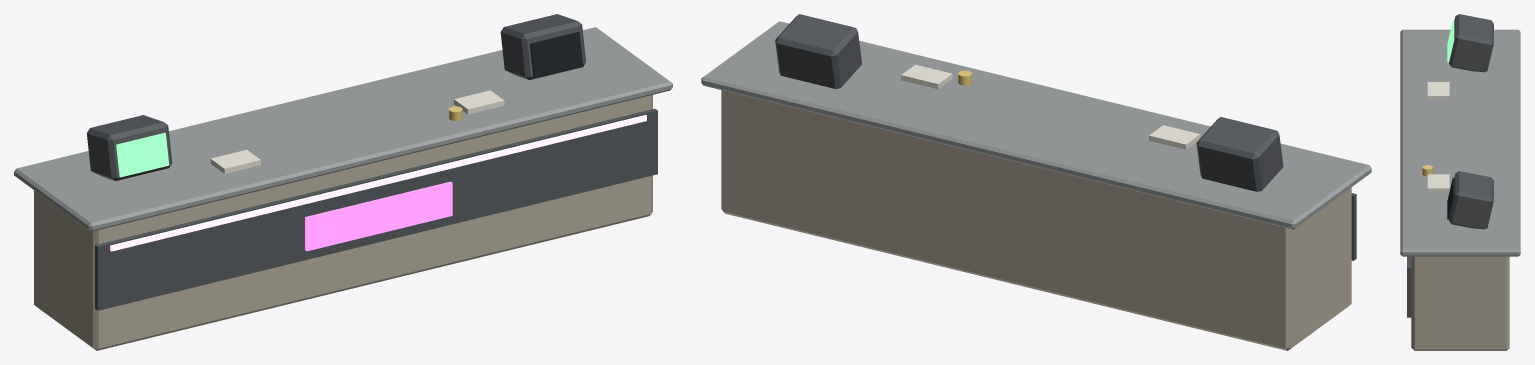
The model's file is an_reception.glb.
3 renders of one model, left to right at view 1: azimuth 30°, elevation 25°; view 2: azimuth 150°, elevation 25°; view 3: azimuth 270°, elevation 25°, orthographic. The views are drawn at different scales.
Visible parts, largest first — view 1: an_reception; view 2: an_reception; view 3: an_reception.
Part boxes in pixels (x1,y1,x2,y2): an_reception: [14, 14, 672, 350]; an_reception: [701, 14, 1371, 350]; an_reception: [1400, 14, 1520, 350].
Bounding box in the file's own units: 4.8 × 1.45 × 1.1.
